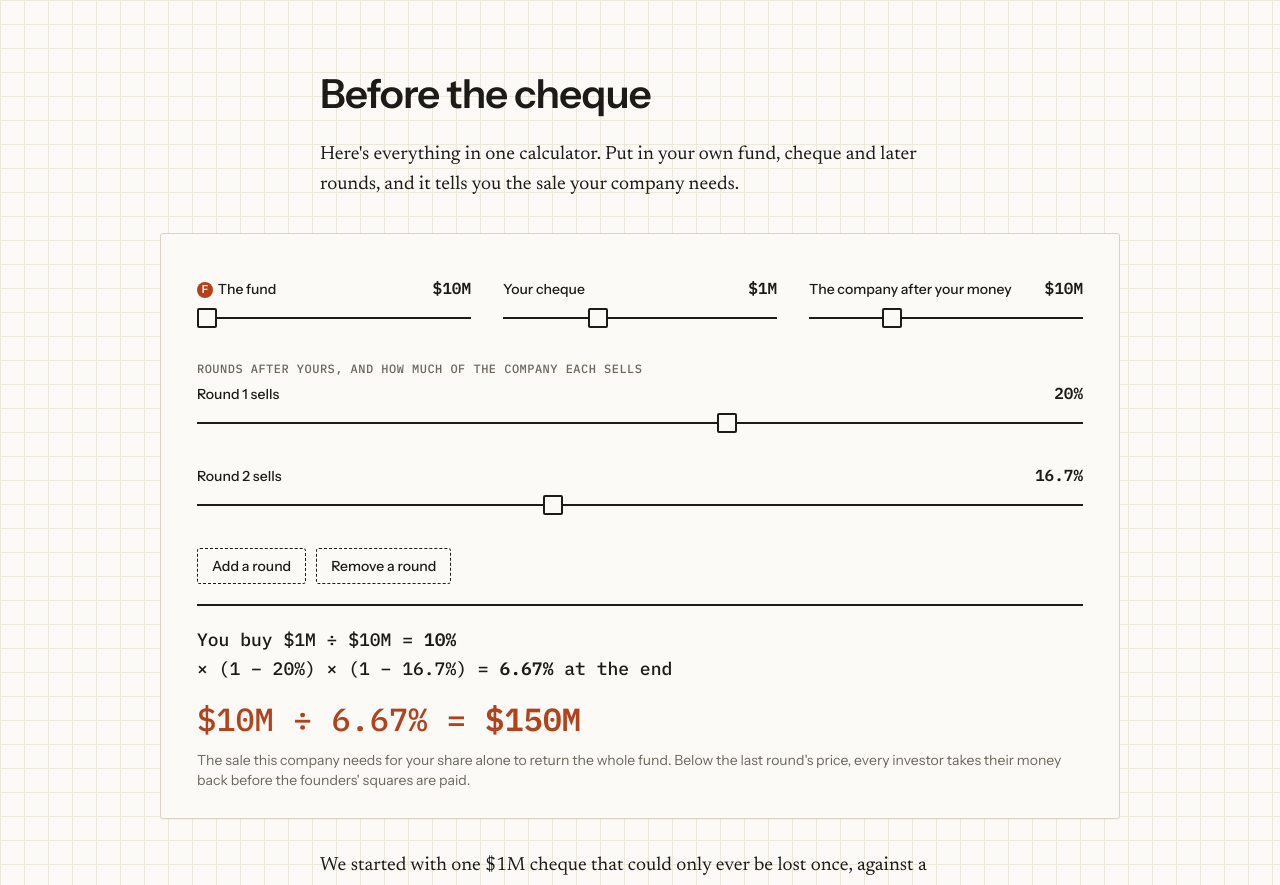
Test case: The napkin › drops a round
This screenshot has width=1280, height=885.
Click the button "Remove a round" at (384, 566), box [316, 548, 451, 584]
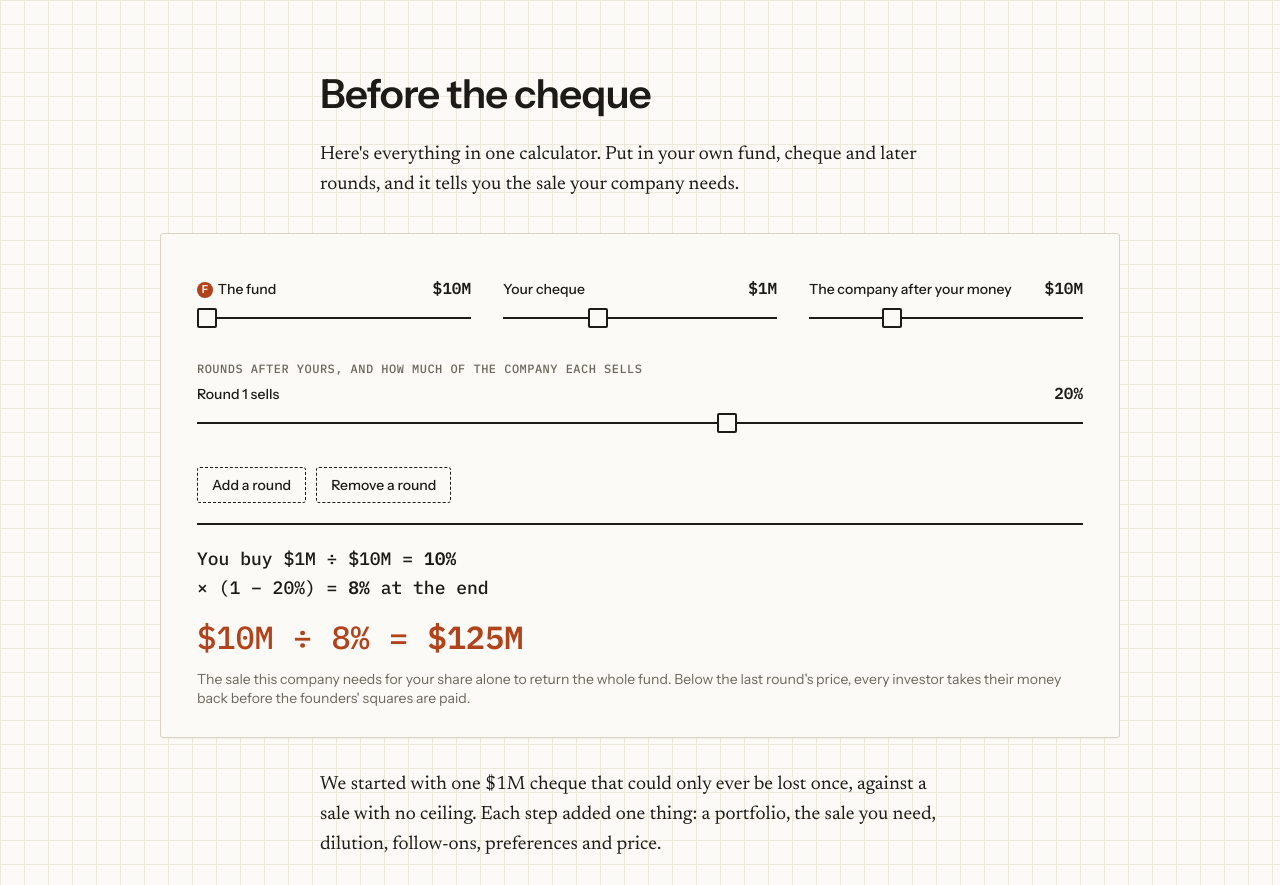
Now the text with test id "share-at-end" reads "8%", box [348, 576, 370, 598]
